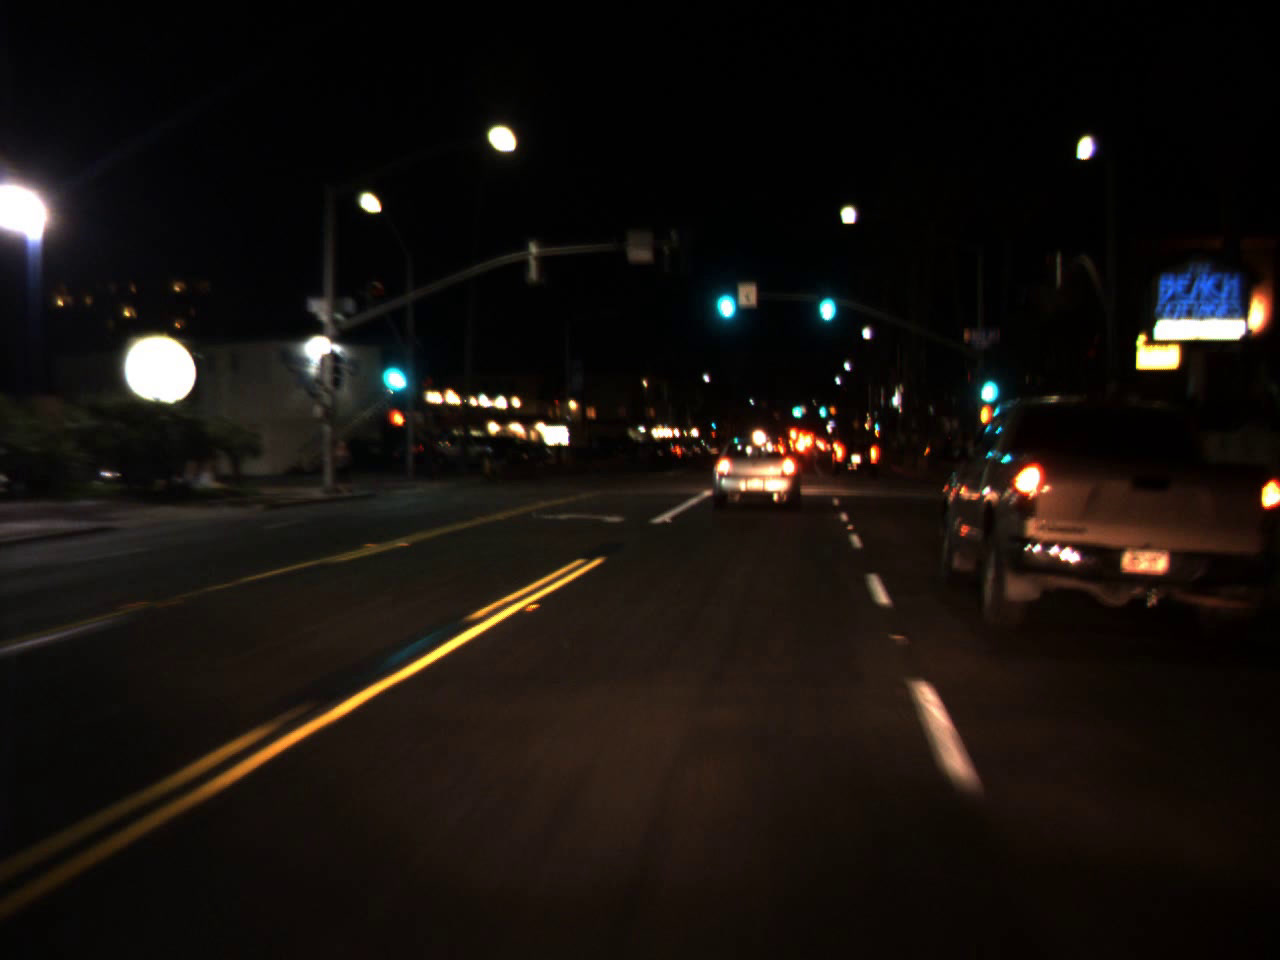go: (373, 335, 412, 401), (709, 263, 739, 329), (974, 352, 1001, 412), (812, 270, 839, 330), (790, 392, 804, 422), (819, 396, 826, 419), (709, 418, 716, 430)
